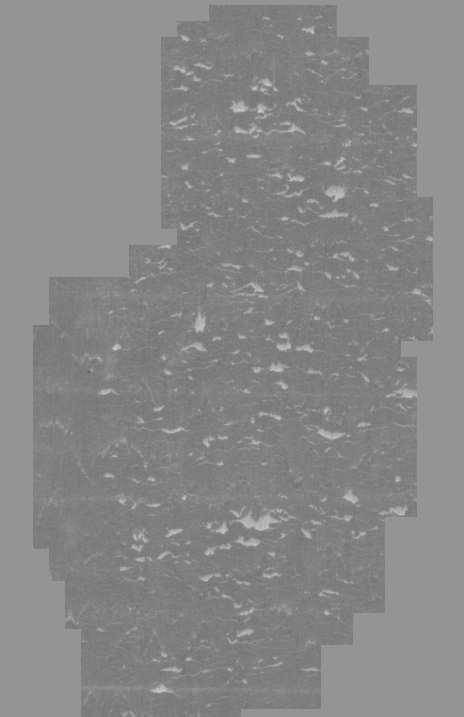oxl: (35, 10, 429, 707)
